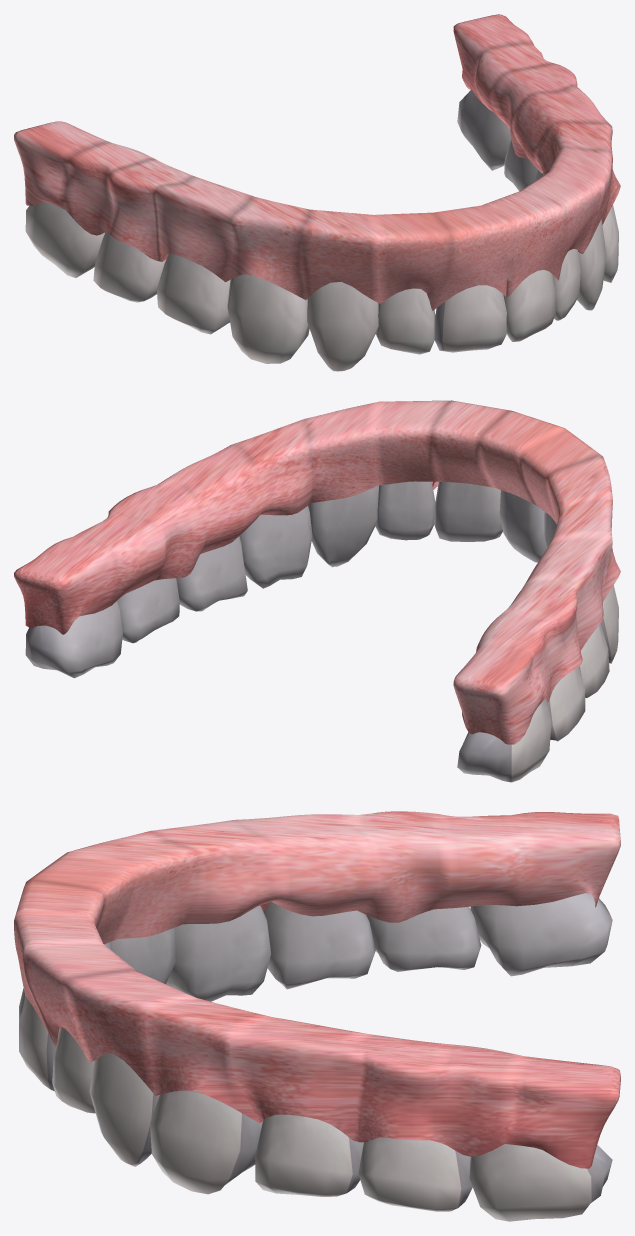
The model's file is teeth_new.glb.
The picture shows the model from 3 angles, top to bottom: view 1: azimuth 30°, elevation 25°; view 2: azimuth 150°, elevation 25°; view 3: azimuth 270°, elevation 25°; orthographic projection. The views are drawn at different scales.
Parts seen in each view (by area): view 1: UpperJaw; view 2: UpperJaw; view 3: UpperJaw.
Part boxes in pixels (x1,y1,x2,y2): UpperJaw: [14, 14, 620, 371]; UpperJaw: [14, 400, 620, 782]; UpperJaw: [14, 811, 620, 1221].
Size of the model in its own units: 1.94 by 0.5737 by 1.74.
Materials: 2 (2 with a texture image).
